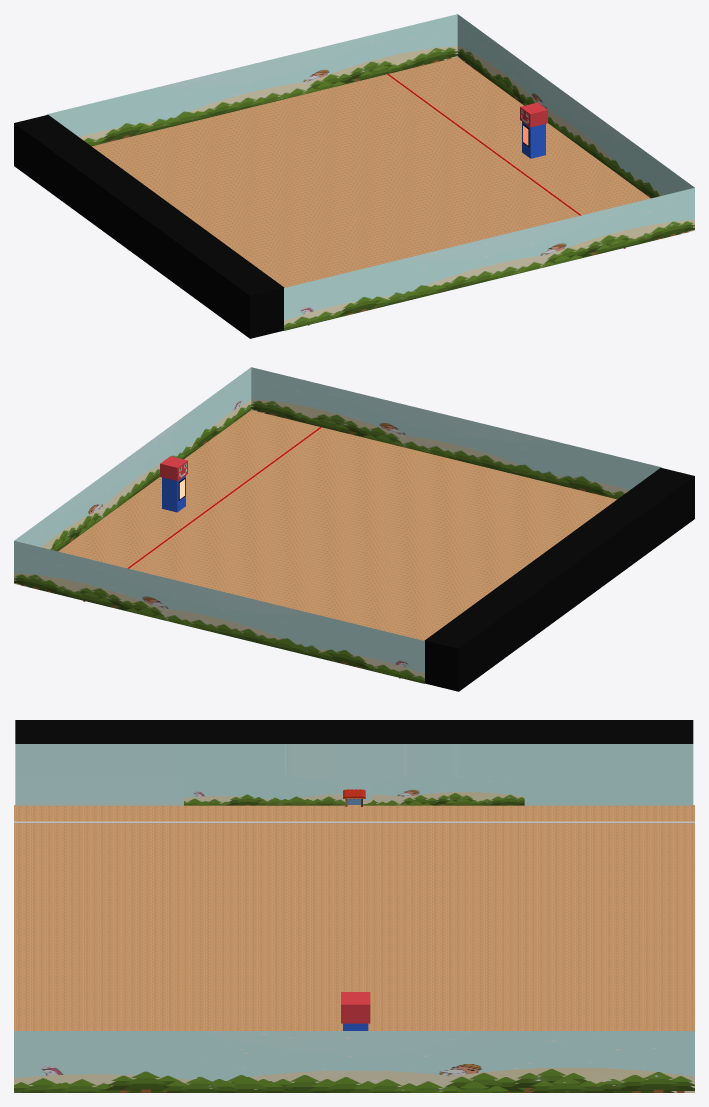
File: wassiefirst.glb
3 views of the same model, one above another, from view 1: azimuth 30°, elevation 25°; view 2: azimuth 150°, elevation 25°; view 3: azimuth 270°, elevation 25° (orthographic). The views are drawn at different scales.
Parts seen in each view (by area): view 1: Plane, Cube.001, Plane.002, Plane.001, Plane.003, Cube, head; view 2: Plane, Cube.001, Plane.001, Plane.002, Plane.003, Cube, head; view 3: Plane, Cube.001, Plane.003, startLine, head.
Part boxes in pixels (bbox=[...]): Plane: bbox=[92, 57, 650, 287]; Cube.001: bbox=[14, 115, 284, 338]; Plane.002: bbox=[284, 188, 694, 330]; Plane.001: bbox=[46, 14, 457, 146]; Plane.003: bbox=[457, 14, 694, 198]; Cube: bbox=[522, 122, 545, 158]; head: bbox=[520, 102, 547, 127]; Plane: bbox=[58, 410, 616, 640]; Cube.001: bbox=[424, 468, 694, 691]; Plane.001: bbox=[14, 541, 424, 683]; Plane.002: bbox=[251, 367, 661, 499]; Plane.003: bbox=[14, 367, 251, 551]; Cube: bbox=[162, 475, 185, 512]; head: bbox=[160, 456, 187, 481]; Plane: bbox=[14, 805, 694, 1030]; Cube.001: bbox=[15, 720, 693, 805]; Plane.003: bbox=[14, 1031, 694, 1092]; startLine: bbox=[14, 821, 694, 823]; head: bbox=[341, 992, 370, 1023].
Bounding box in the file's own units: 324 × 32.8 × 300.
Materials: 23 (8 with a texture image).
